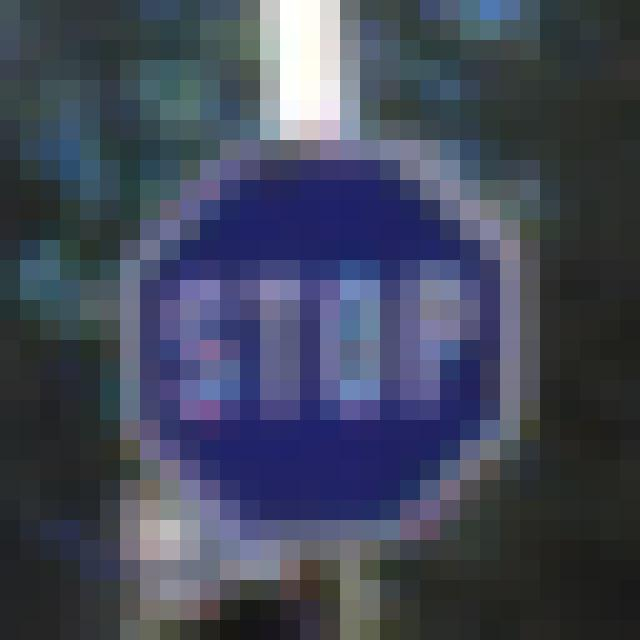STOP: (131, 141, 512, 538)
